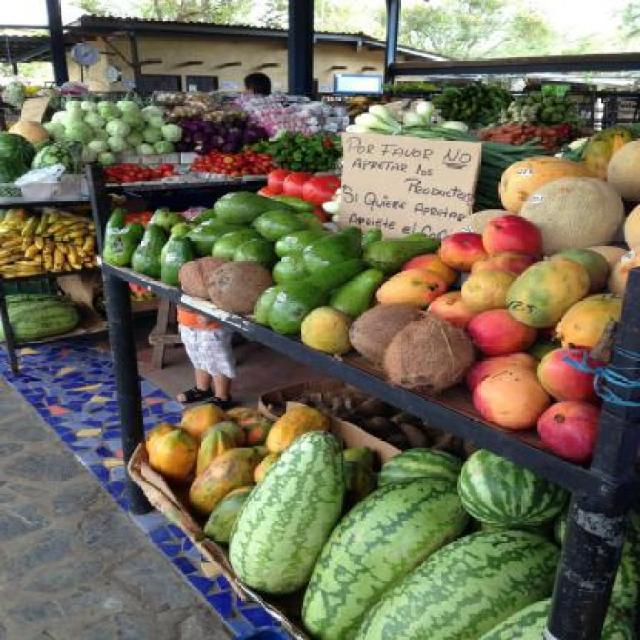Watermelon: (226, 431, 640, 640), (2, 296, 80, 344)
